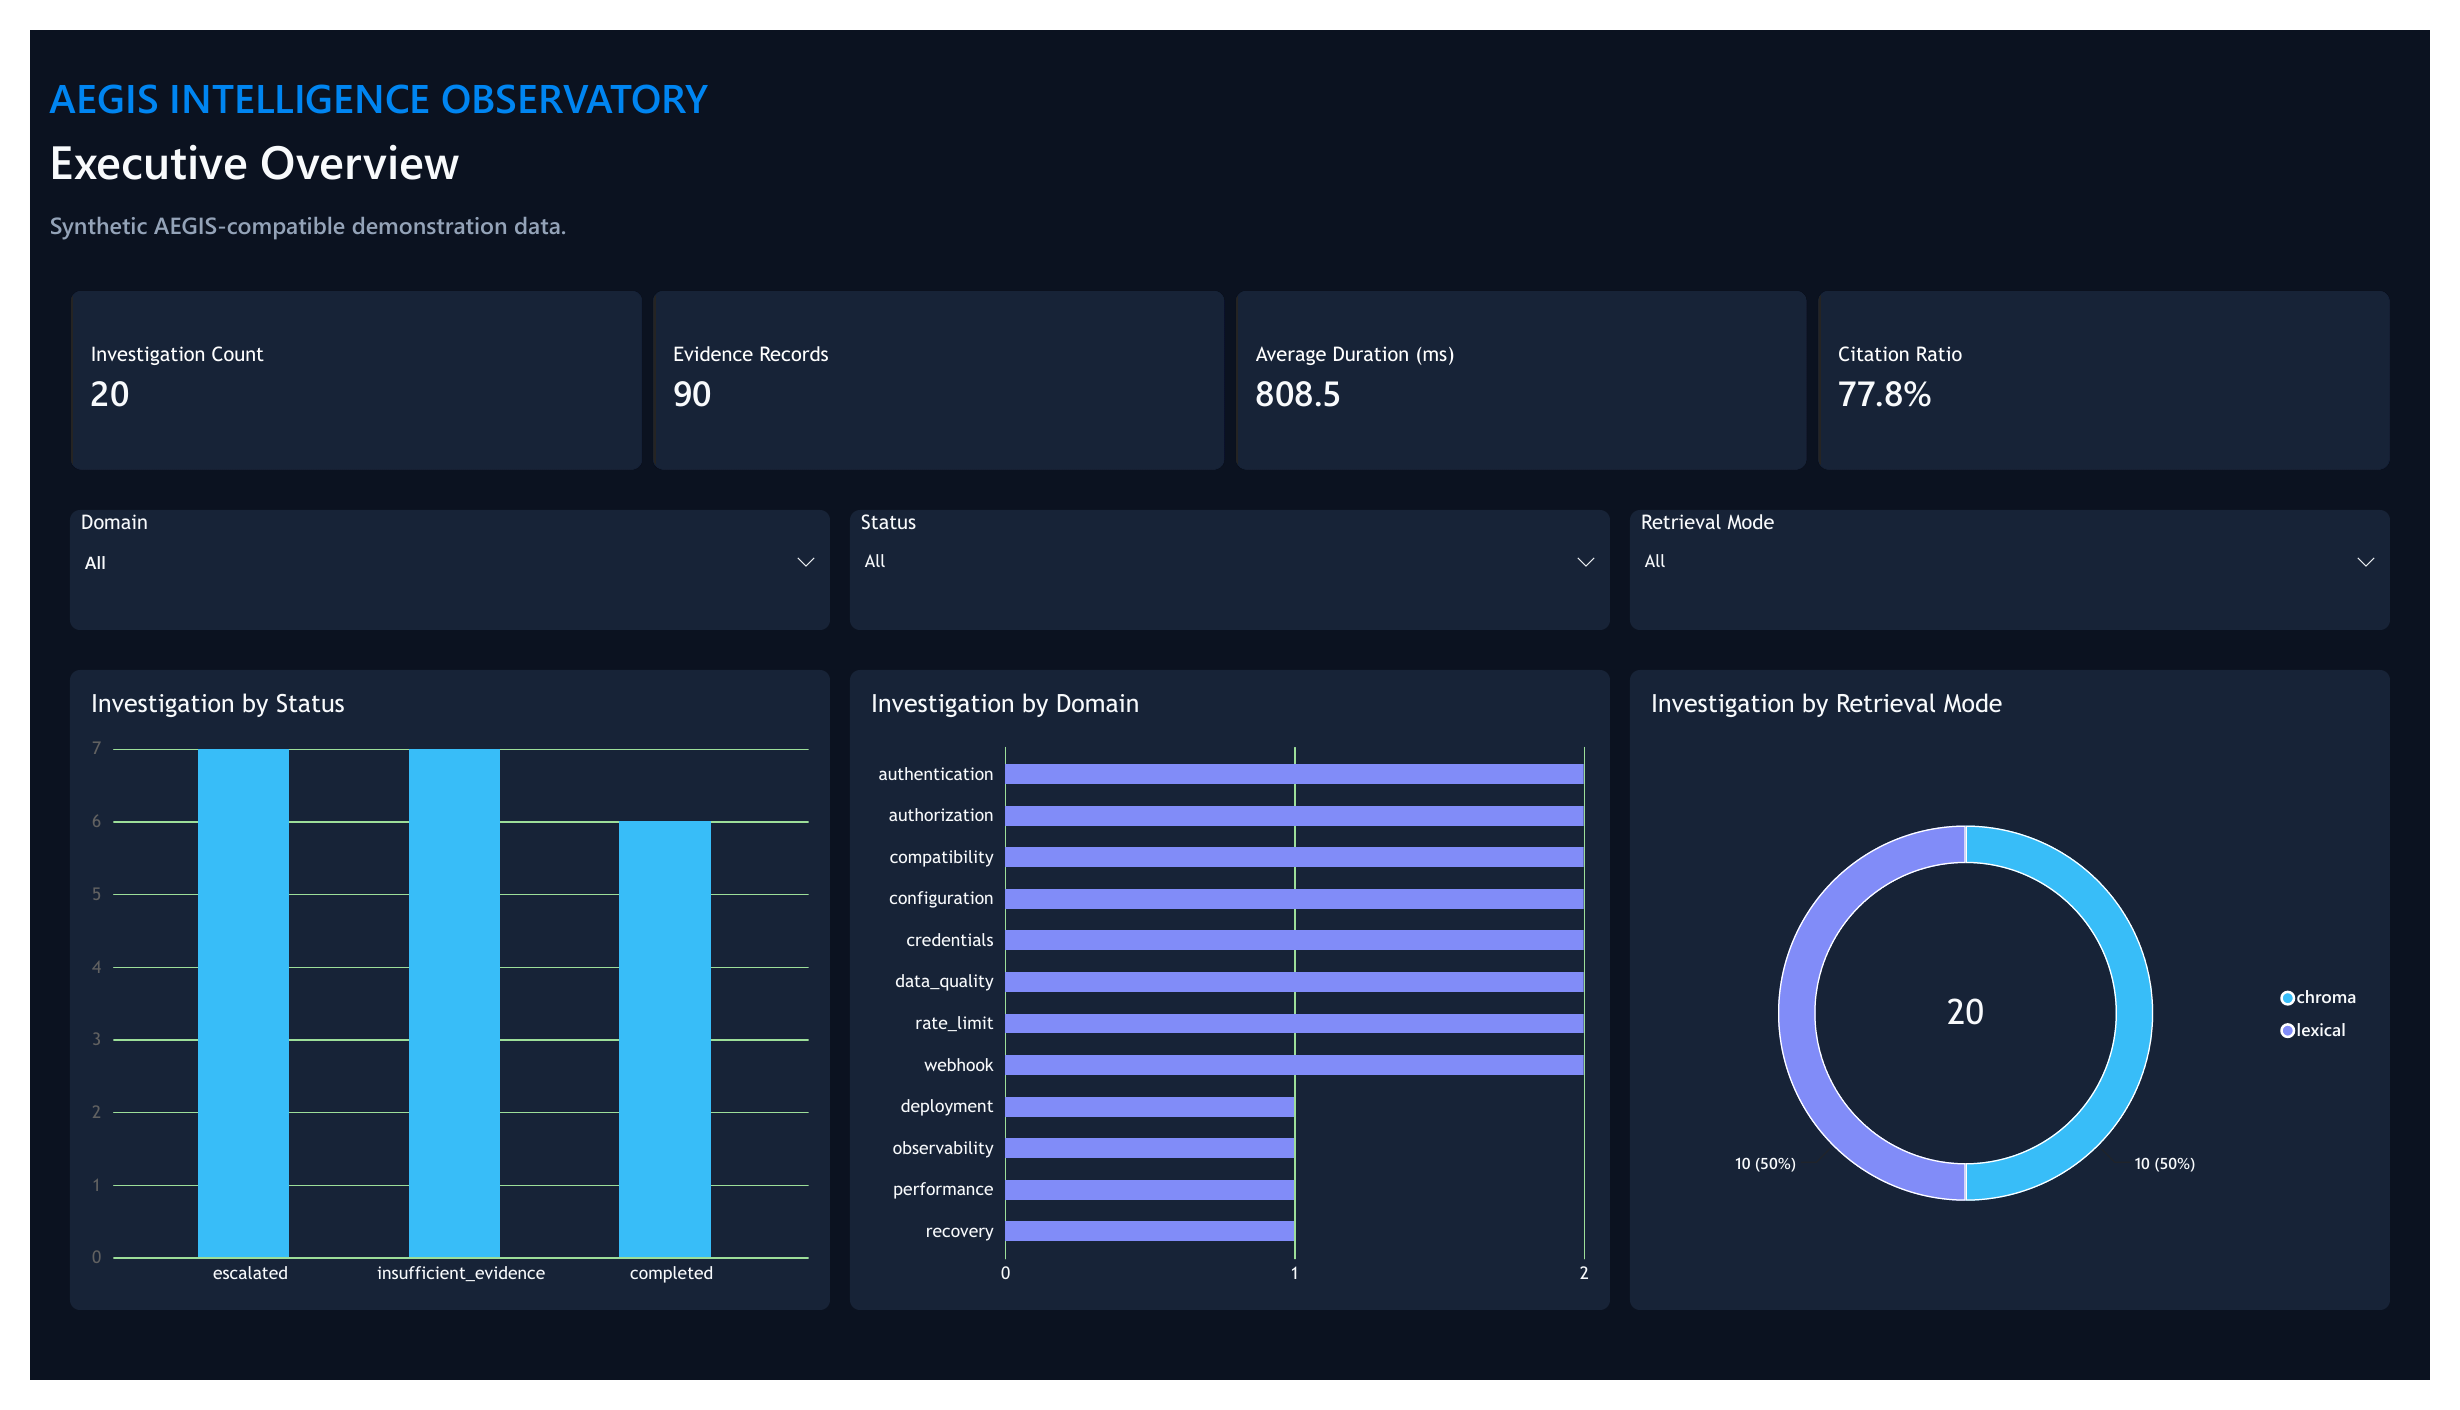

This screenshot's page, from the dashboard's own definition file:
{"tool":"powerbi","page":{"name":"Executive Overview","canvas":[1920,1080],"ordinal":0},"visuals":[{"type":"cardVisual","fields":{"Data":["investigations.Investigation Count","evidence_records.Evidence Records","investigations.Average Duration (ms)","investigations.Citation Ratio"]},"box":[32,208,1856,144],"z":0},{"type":"textbox","box":[16,32,544,48],"z":1000},{"type":"textbox","box":[16,144,416,32],"z":2000},{"type":"textbox","box":[16,80,336,56],"z":3000},{"type":"clusteredColumnChart","title":"Investigation by Status","fields":{"Category":["investigations.status"],"Y":["investigations.Investigation Count"]},"box":[32,512,608,512],"z":4000},{"type":"clusteredBarChart","title":"Investigation by Domain","fields":{"Category":["scenarios.domain"],"Y":["investigations.Investigation Count"]},"box":[656,512,608,512],"z":5000},{"type":"donutChart","title":"Investigation by Retrieval Mode","fields":{"Category":["investigations.retrieval_mode"],"Y":["investigations.Investigation Count"]},"box":[1280,512,608,512],"z":6000},{"type":"slicer","fields":{"Values":["investigations.retrieval_mode"]},"box":[1280,384,608,96],"z":7000},{"type":"slicer","fields":{"Values":["investigations.investigation_id"]},"box":[656,384,608,96],"z":8000},{"type":"slicer","fields":{"Values":["scenarios.domain"]},"box":[32,384,608,96],"z":9000}]}

Visuals, with their boxes in screenshot pixels (x1, y1, x2, y2), scaled from the page's 1920x1080 canvas onto the 2460x1410 screenshot:
cardVisual - investigations.Investigation Count x evidence_records.Evidence Records: {"left": 41, "top": 272, "right": 2419, "bottom": 460}
textbox: {"left": 20, "top": 42, "right": 718, "bottom": 104}
textbox: {"left": 20, "top": 188, "right": 554, "bottom": 230}
textbox: {"left": 20, "top": 104, "right": 451, "bottom": 178}
"Investigation by Status" clusteredColumnChart: {"left": 41, "top": 668, "right": 820, "bottom": 1337}
"Investigation by Domain" clusteredBarChart: {"left": 840, "top": 668, "right": 1620, "bottom": 1337}
"Investigation by Retrieval Mode" donutChart: {"left": 1640, "top": 668, "right": 2419, "bottom": 1337}
slicer - investigations.retrieval_mode: {"left": 1640, "top": 501, "right": 2419, "bottom": 627}
slicer - investigations.investigation_id: {"left": 840, "top": 501, "right": 1620, "bottom": 627}
slicer - scenarios.domain: {"left": 41, "top": 501, "right": 820, "bottom": 627}
